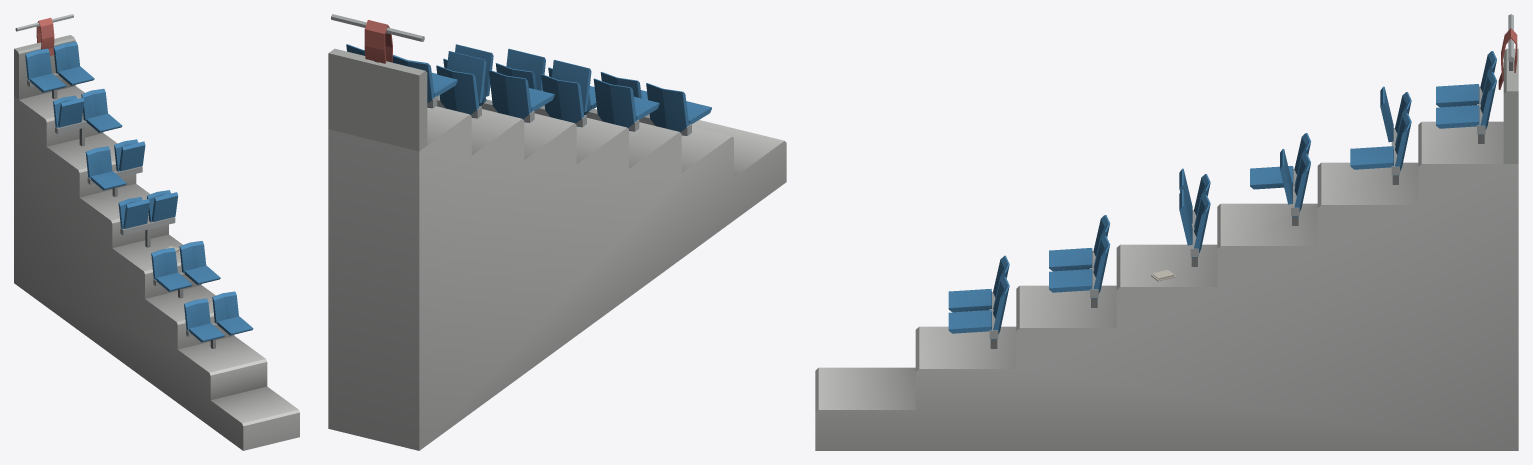
Rendered from stand.glb.
The picture shows the model from 3 angles, left to right: view 1: azimuth 30°, elevation 25°; view 2: azimuth 150°, elevation 25°; view 3: azimuth 270°, elevation 25°; orthographic projection. The views are drawn at different scales.
Visible parts, largest first — view 1: stand; view 2: stand; view 3: stand.
Boxes of the visible parts, bbox=[...] form: stand: bbox=[14, 14, 299, 450]; stand: bbox=[328, 14, 786, 450]; stand: bbox=[815, 14, 1518, 450].
Size of the model in its own units: 1 by 4.36 by 7.
